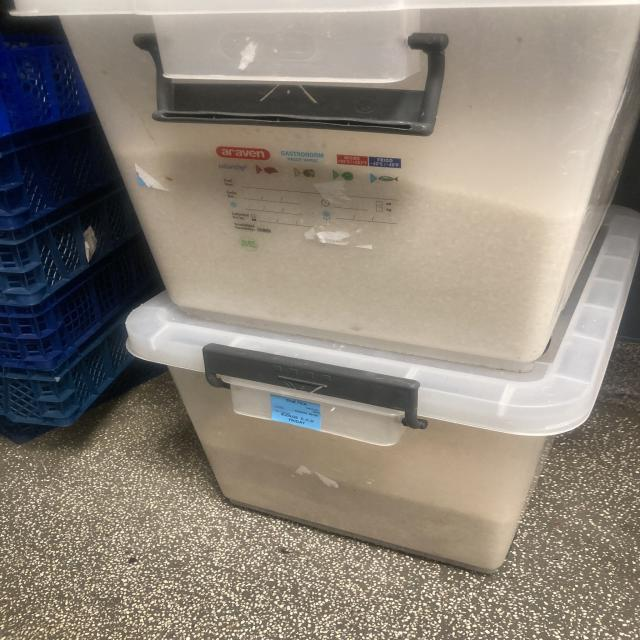product-labels: (266, 394, 326, 431)
